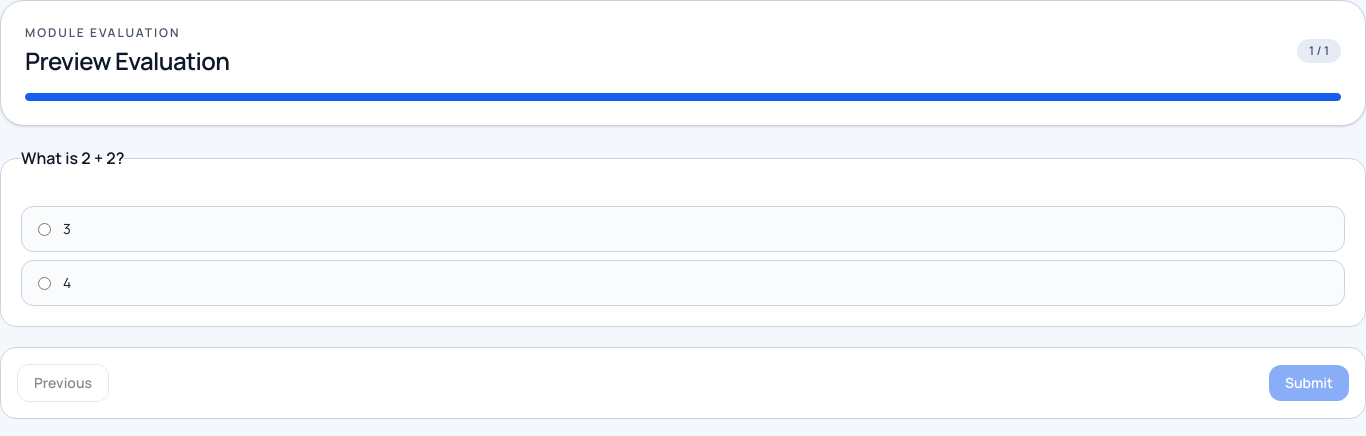
Test: EvaluationRunner › shows a preview result when the evaluation is submitted in preview mode
Click the radio button labelled "4": (44, 283) [38,276,51,290]
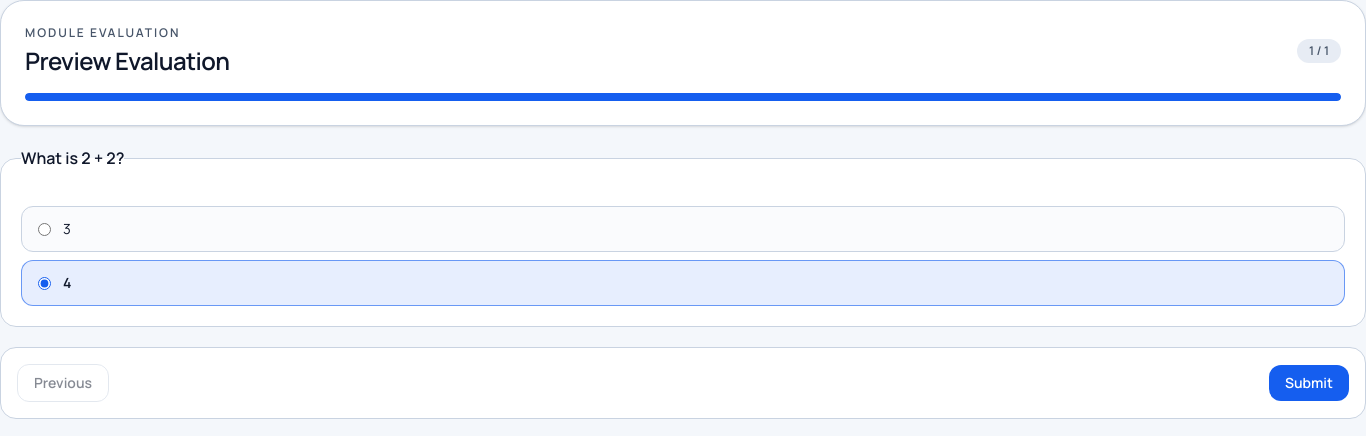
Click the button "Submit": (1309, 383) [1269,365,1349,401]
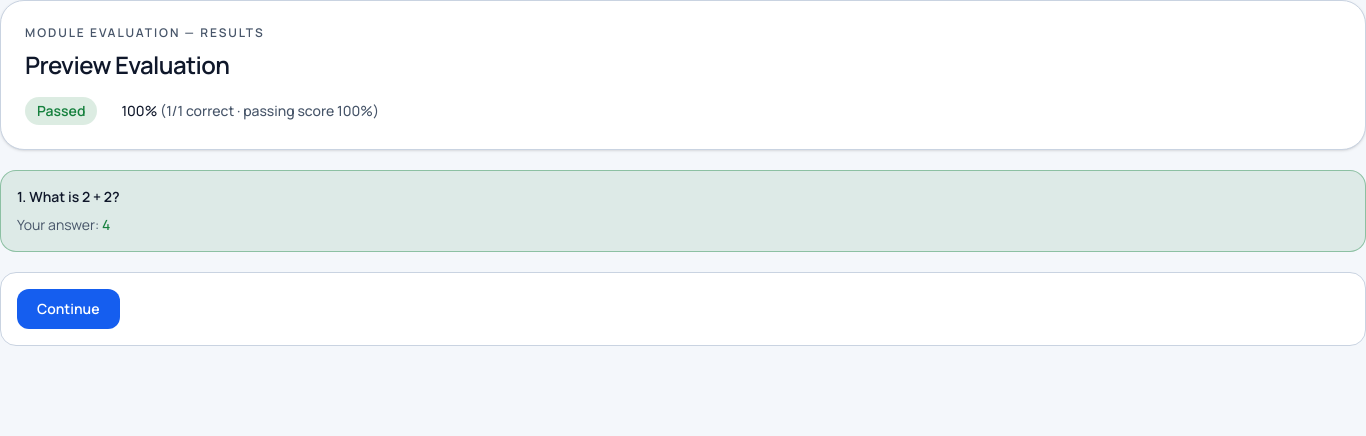
Expected: the text "Passed" is shown, [25,97,97,125]
Expected: the button "Continue" is shown, [17,289,120,329]
